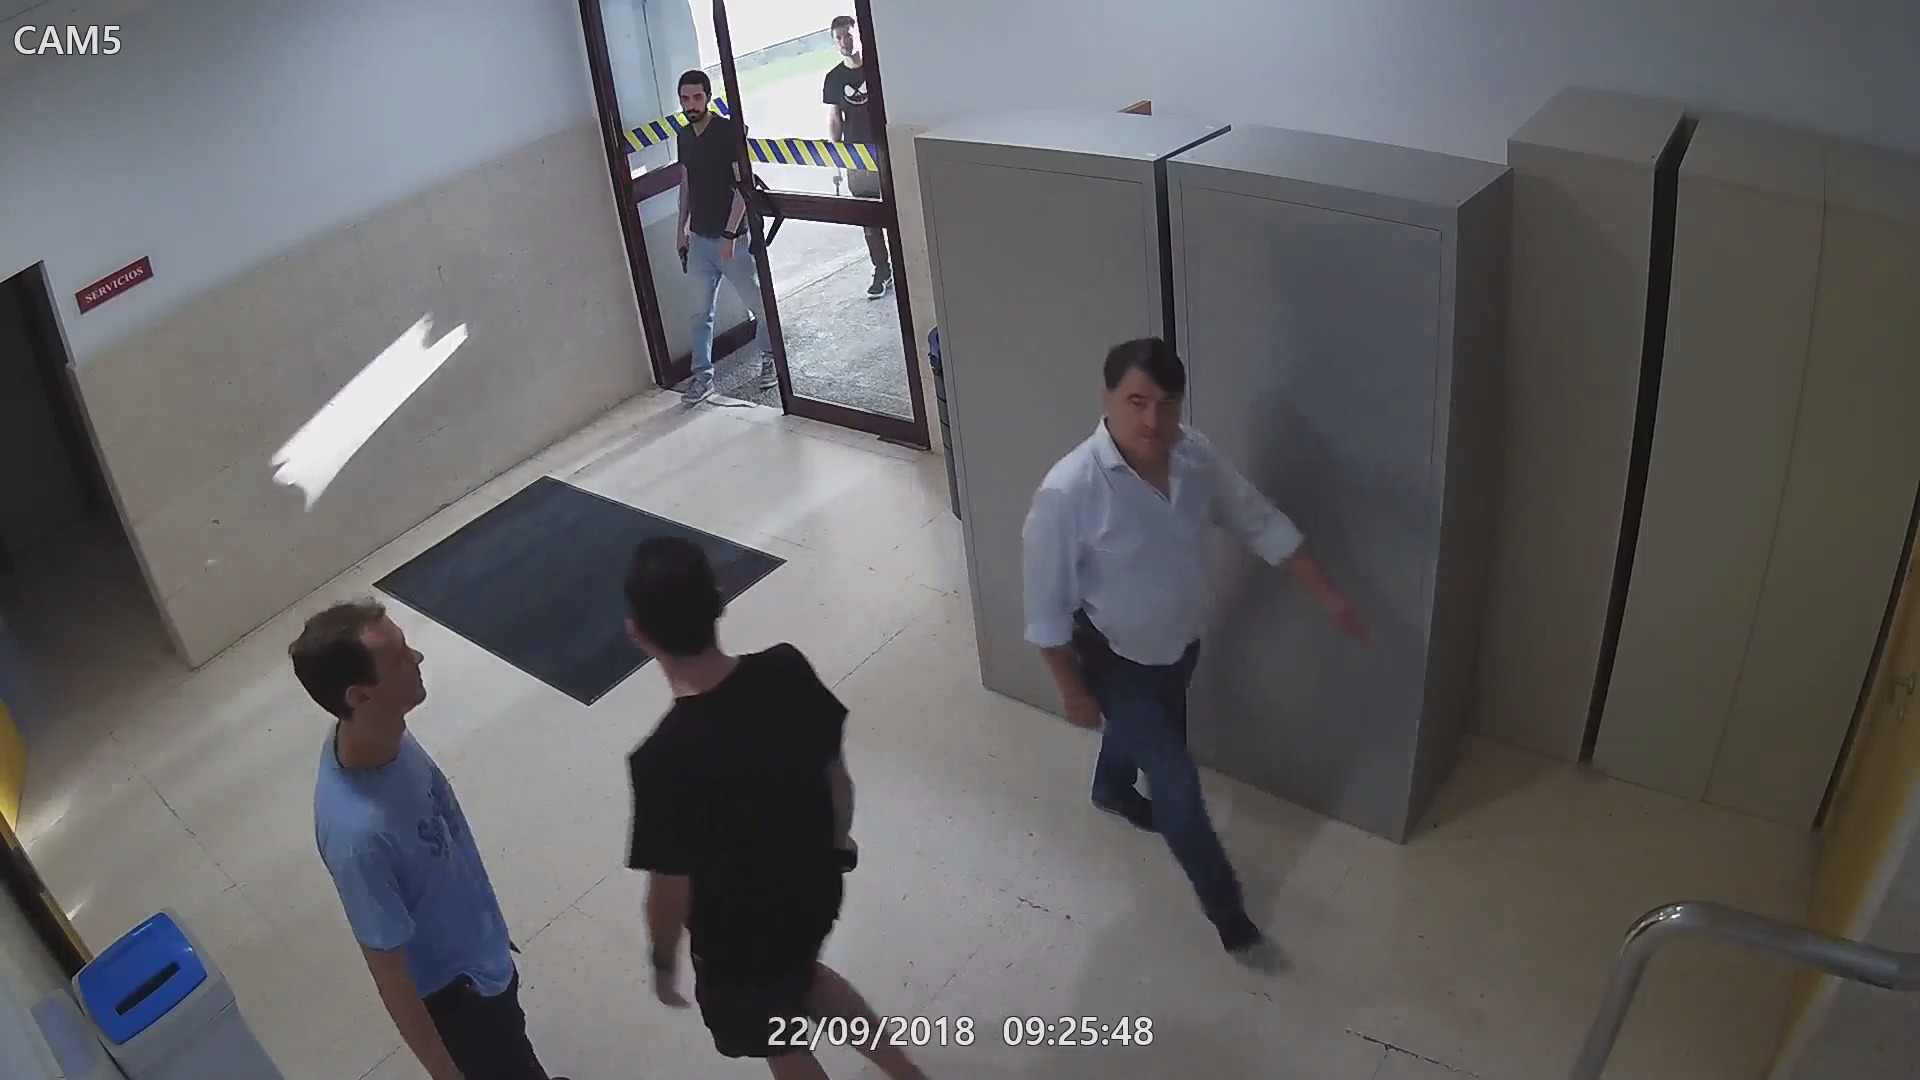Handgun: (1076, 621, 1121, 716), (814, 825, 855, 922), (666, 228, 692, 281), (822, 166, 848, 198)
